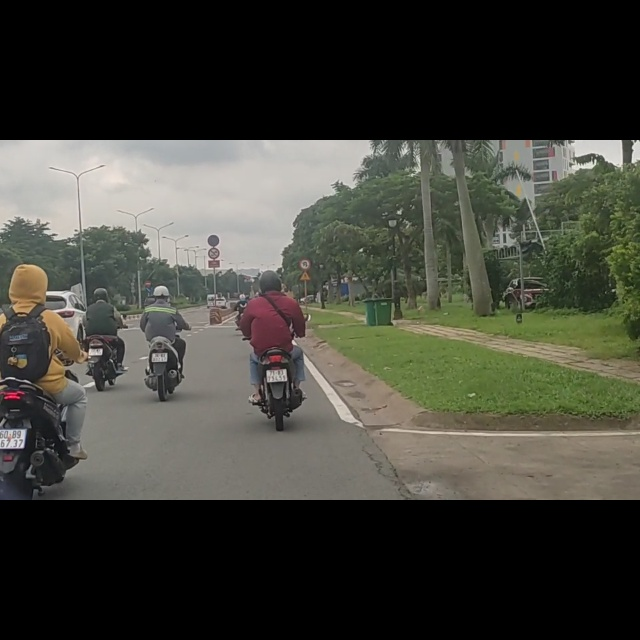bien_cam: (299, 210, 311, 231), (299, 232, 312, 251), (208, 191, 219, 212), (208, 168, 219, 188), (144, 249, 152, 262), (145, 260, 152, 271)
